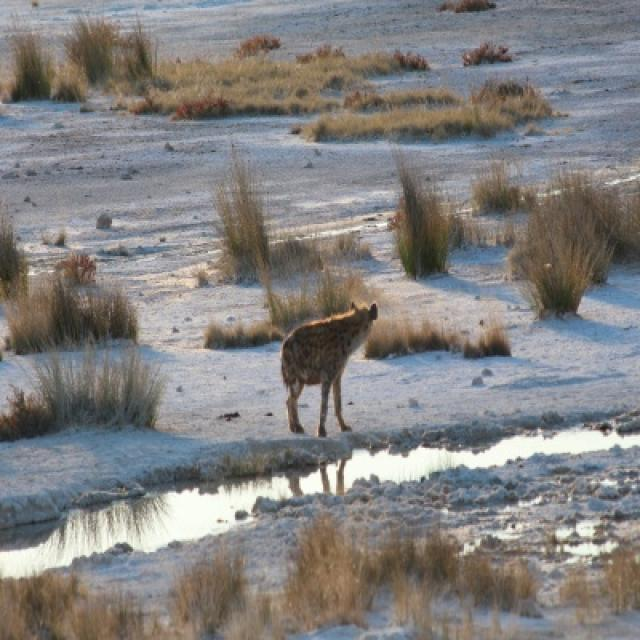hyena: (280, 306, 379, 438)
